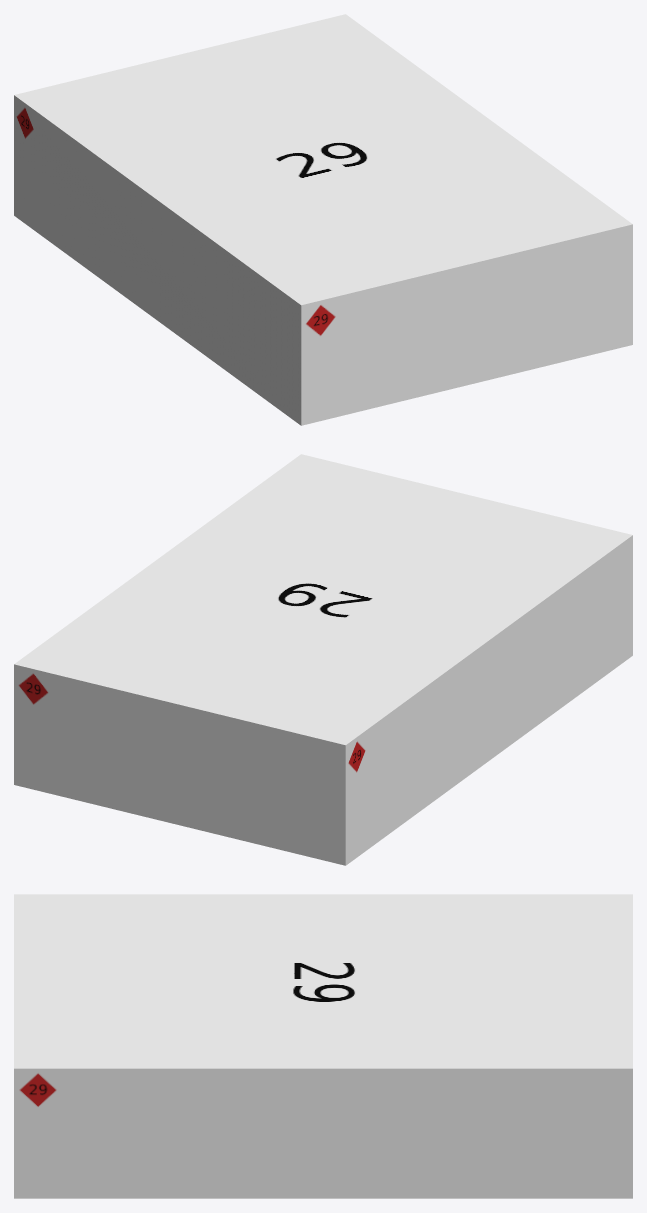
File: Padiglione_29.glb
3 renders of one model, top to bottom at view 1: azimuth 30°, elevation 25°; view 2: azimuth 150°, elevation 25°; view 3: azimuth 270°, elevation 25°, orthographic. The views are drawn at different scales.
Parts seen in each view (by area): view 1: Padiglione 29; view 2: Padiglione 29; view 3: Padiglione 29.
Boxes of the visible parts, <box> form: Padiglione 29: <box>14,14,632,425</box>; Padiglione 29: <box>14,454,632,865</box>; Padiglione 29: <box>14,894,632,1198</box>.
Size of the model in its own units: 2.88 by 1 by 4.32.
1 material, 1 textured.
